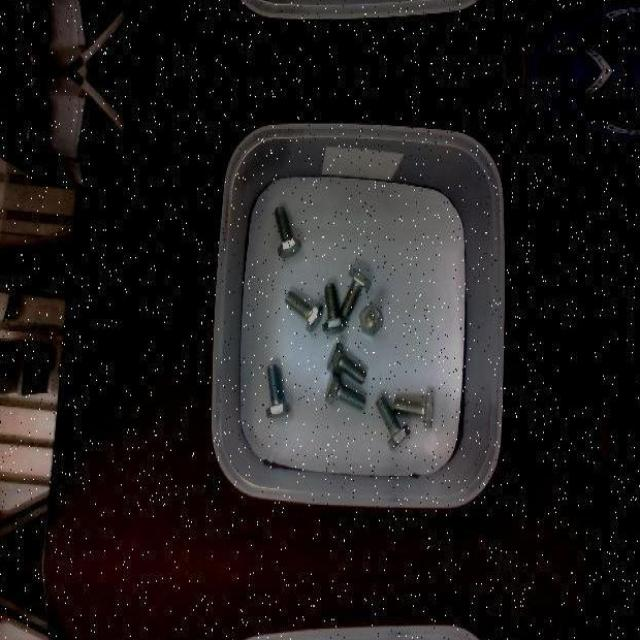screw: (376, 394, 411, 450), (325, 341, 367, 384), (284, 289, 323, 332), (339, 268, 372, 318), (324, 371, 366, 410), (393, 392, 434, 428), (274, 204, 302, 256), (265, 362, 290, 416), (323, 283, 347, 334), (358, 303, 383, 334)
